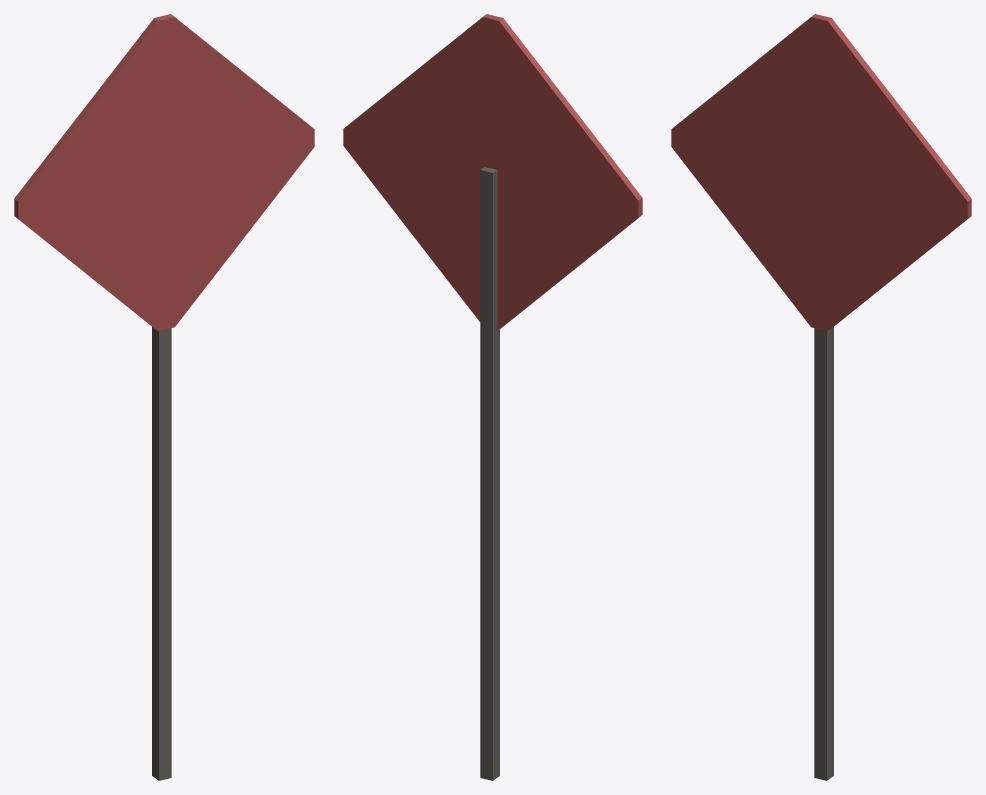
File: DiamondRoadSign.fbx
3 views of the same model, side by side, from view 1: azimuth 30°, elevation 25°; view 2: azimuth 150°, elevation 25°; view 3: azimuth 330°, elevation 25° (orthographic).
Visible parts, largest first — view 1: Cube.002, Cube; view 2: Cube.002, Cube; view 3: Cube.002, Cube.
Boxes of the visible parts, x1,y1,x2,y2 form: Cube.002: (14,14,314,331); Cube: (152,327,171,780); Cube.002: (343,14,642,329); Cube: (480,167,499,780); Cube.002: (671,14,971,331); Cube: (814,327,833,780).
Size of the model in its own units: 165 by 405 by 8.13.
